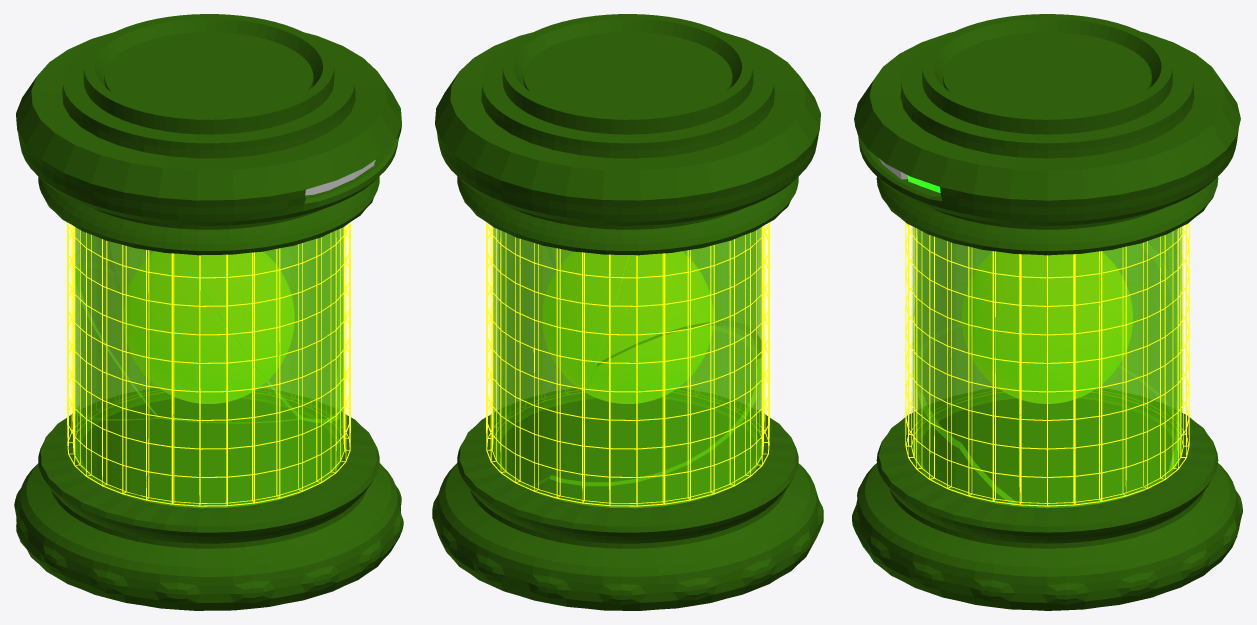
Rendered from BrokenTutuOne.fbx.
The picture shows the model from 3 angles, left to right: view 1: azimuth 30°, elevation 25°; view 2: azimuth 150°, elevation 25°; view 3: azimuth 270°, elevation 25°; orthographic projection.
Parts seen in each view (by area): view 1: 円柱.002, 円柱.001_cell, 円柱.001_cell.003, 円柱.001_cell.001, 球_cell, 円柱.001_cell.002, 円柱.001_cell.004, 円柱_cell, 球_cell.003, 円柱_cell.004, 円柱_cell.001, 球_cell.002 (+2 smaller); view 2: 円柱.002, 円柱.001_cell.002, 円柱.001_cell.004, 円柱.001_cell, 円柱.001_cell.003, 円柱_cell.004, 球_cell.004, 球_cell, 円柱_cell.002, 球_cell.002, 円柱_cell.001, 球_cell.001 (+2 smaller); view 3: 円柱.002, 円柱.001_cell.002, 円柱.001_cell.001, 円柱.001_cell.003, 球_cell.003, 円柱.001_cell.004, 円柱_cell.002, 円柱_cell, 球_cell.004, 円柱.001_cell, 球_cell.001, 円柱_cell.003 (+1 smaller).
Boxes of the visible parts, x1,y1,x2,y2 form: 円柱.002: (14,14,403,610); 円柱.001_cell: (75,227,301,423); 円柱.001_cell.003: (75,382,343,508); 円柱.001_cell.001: (181,227,343,422); 球_cell: (123,251,243,376); 円柱.001_cell.002: (109,230,343,435); 円柱.001_cell.004: (75,264,158,420); 円柱_cell: (139,330,350,506); 球_cell.003: (235,262,294,381); 円柱_cell.004: (67,222,172,498); 円柱_cell.001: (68,223,268,404); 球_cell.002: (131,354,265,403); 円柱.002: (432,14,823,610); 円柱.001_cell.002: (493,227,628,489); 円柱.001_cell.004: (549,322,761,485); 円柱.001_cell: (597,227,761,365); 円柱.001_cell.003: (529,330,761,508); 円柱_cell.004: (522,248,769,506); 球_cell.004: (542,265,644,388); 球_cell: (628,251,713,369); 円柱_cell.002: (486,244,538,485); 球_cell.002: (575,358,703,403); 円柱_cell.001: (710,222,769,330); 球_cell.001: (548,252,631,287); 円柱.002: (852,14,1242,610); 円柱.001_cell.002: (959,227,1182,508); 円柱.001_cell.001: (912,227,1025,447); 円柱.001_cell.003: (912,326,1182,505); 球_cell.003: (962,256,1072,398); 円柱.001_cell.004: (1102,244,1182,437); 円柱_cell.002: (905,234,1187,489); 円柱_cell: (905,303,1145,506); 球_cell.004: (1069,251,1132,391); 円柱.001_cell: (912,236,1170,394); 球_cell.001: (1002,253,1093,343); 円柱_cell.003: (905,222,1187,322).
Size of the model in its own units: 276 by 371 by 276.
